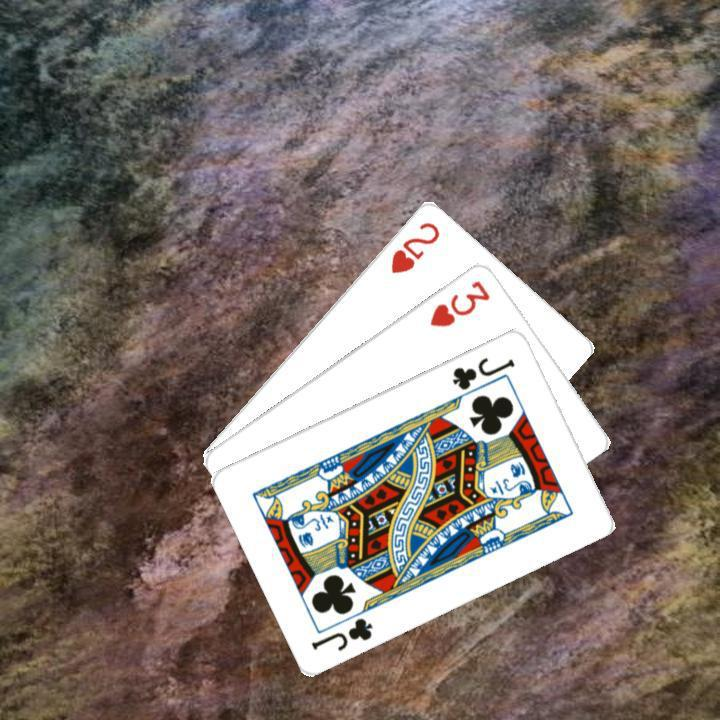2: (386, 216, 442, 275)
3: (425, 275, 493, 329)
J: (306, 612, 375, 653), (448, 352, 517, 392)
